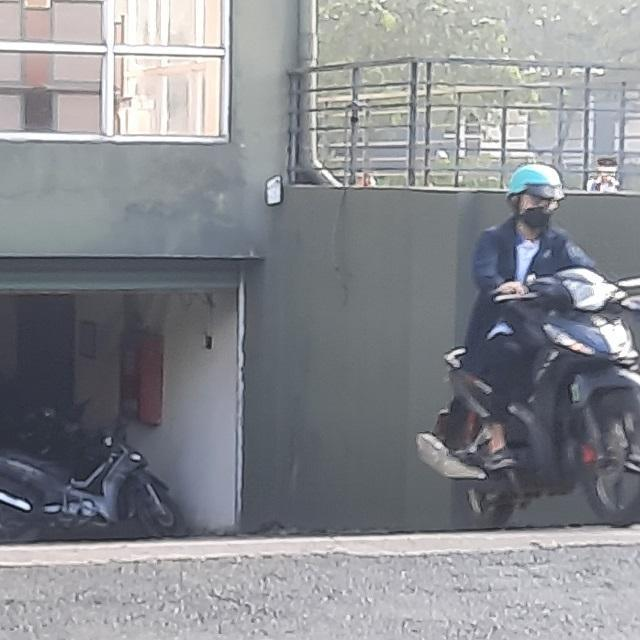Helmet: (510, 162, 560, 225)
